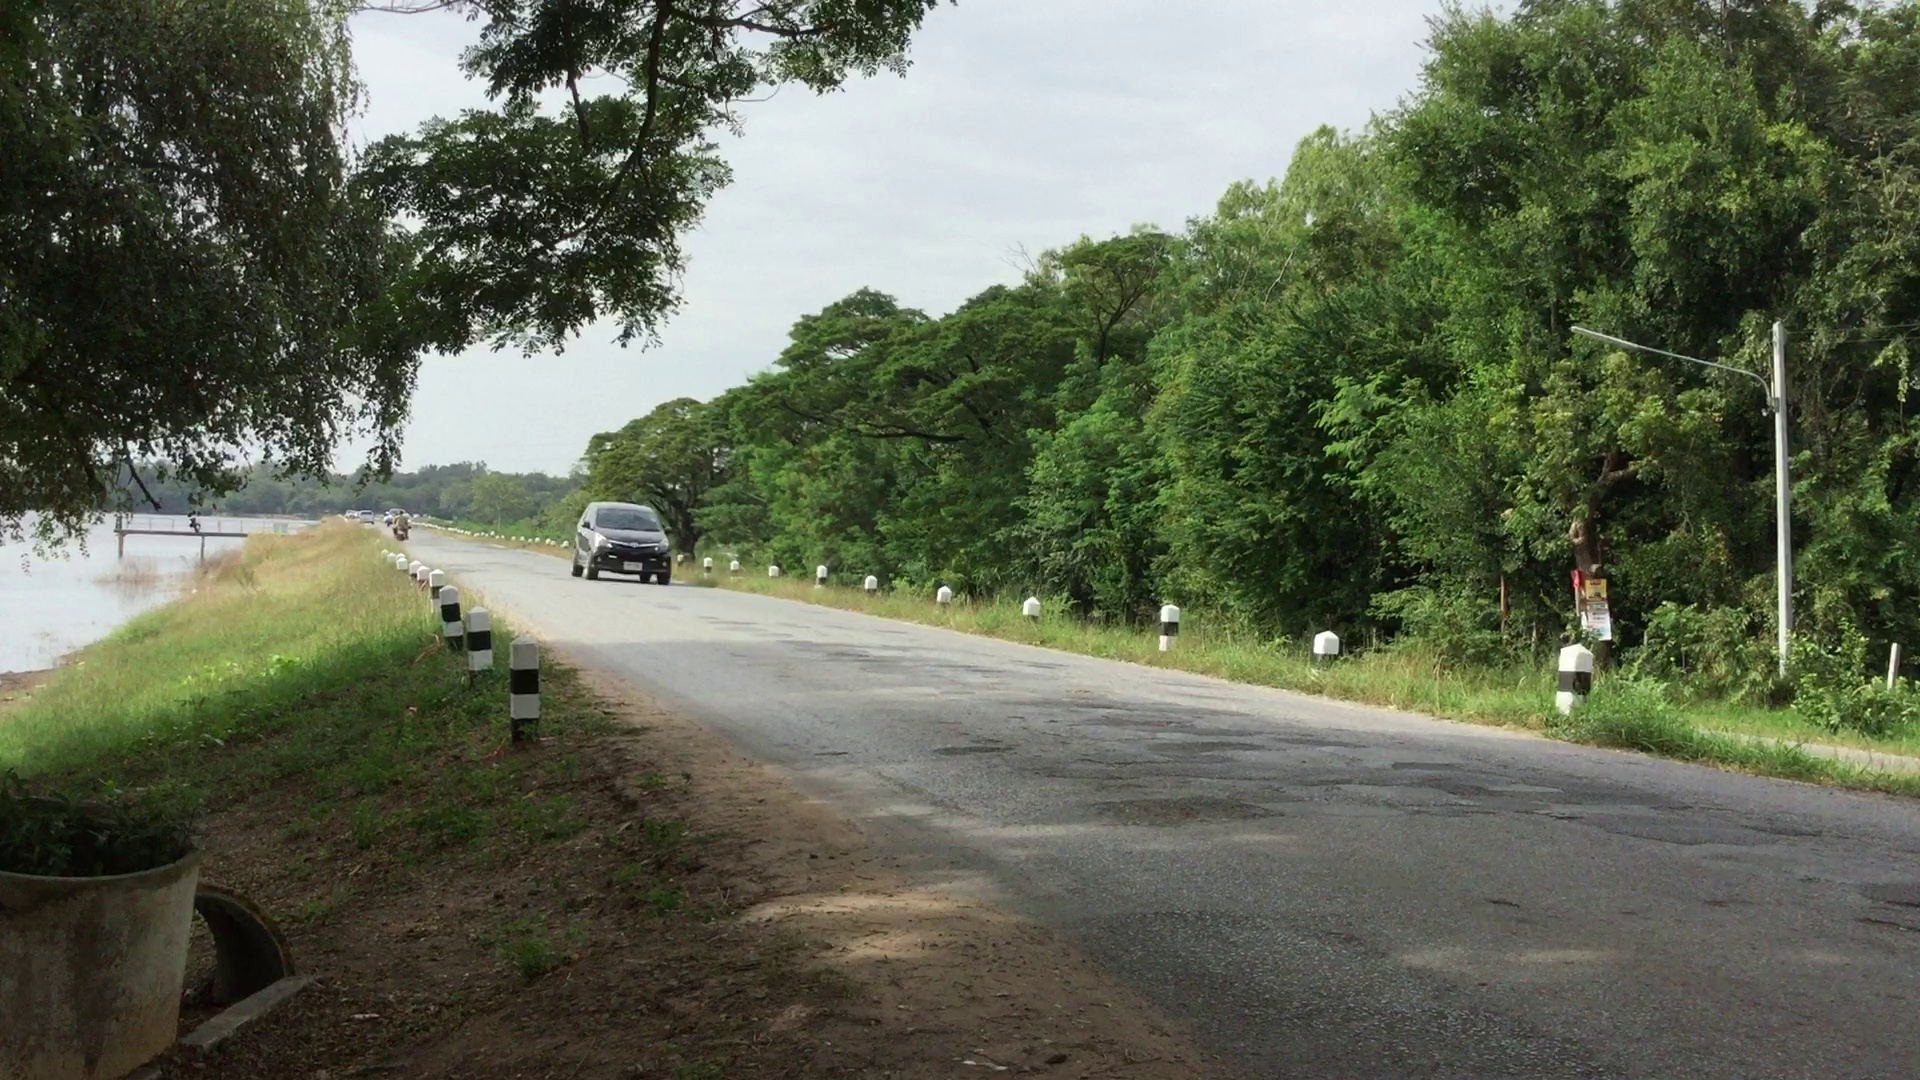car: (564, 497, 678, 585)
person: (390, 509, 417, 538)
post: (500, 630, 545, 743), (1551, 637, 1596, 726), (464, 604, 497, 670), (435, 581, 464, 650), (1304, 628, 1344, 669), (1016, 591, 1047, 634), (1154, 603, 1182, 650), (932, 583, 956, 611), (811, 563, 830, 593), (861, 571, 881, 596)
